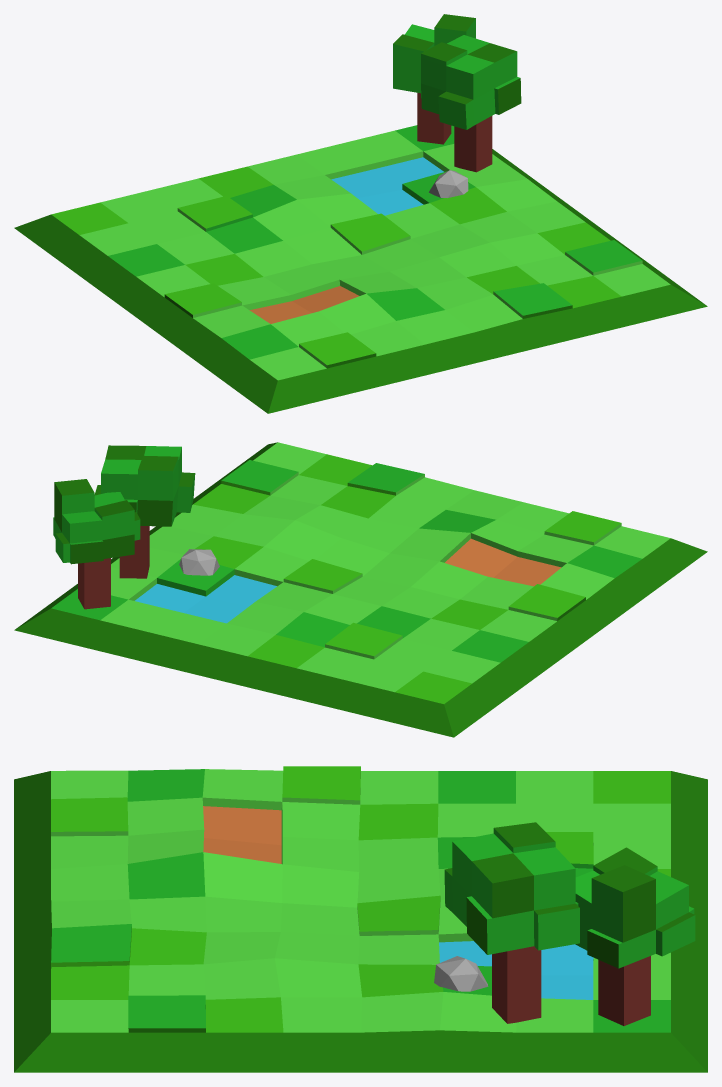
File: des1.fbx
3 renders of one model, top to bottom at view 1: azimuth 30°, elevation 25°; view 2: azimuth 150°, elevation 25°; view 3: azimuth 270°, elevation 25°, orthographic. The views are drawn at different scales.
Parts seen in each view (by area): view 1: land2; view 2: land2; view 3: land2.
Part boxes in pixels (x1,y1,x2,y2): land2: (14,14,707,413); land2: (14,442,707,737); land2: (14,766,707,1072).
Bounding box in the file's own units: 101 × 29.96 × 101.
